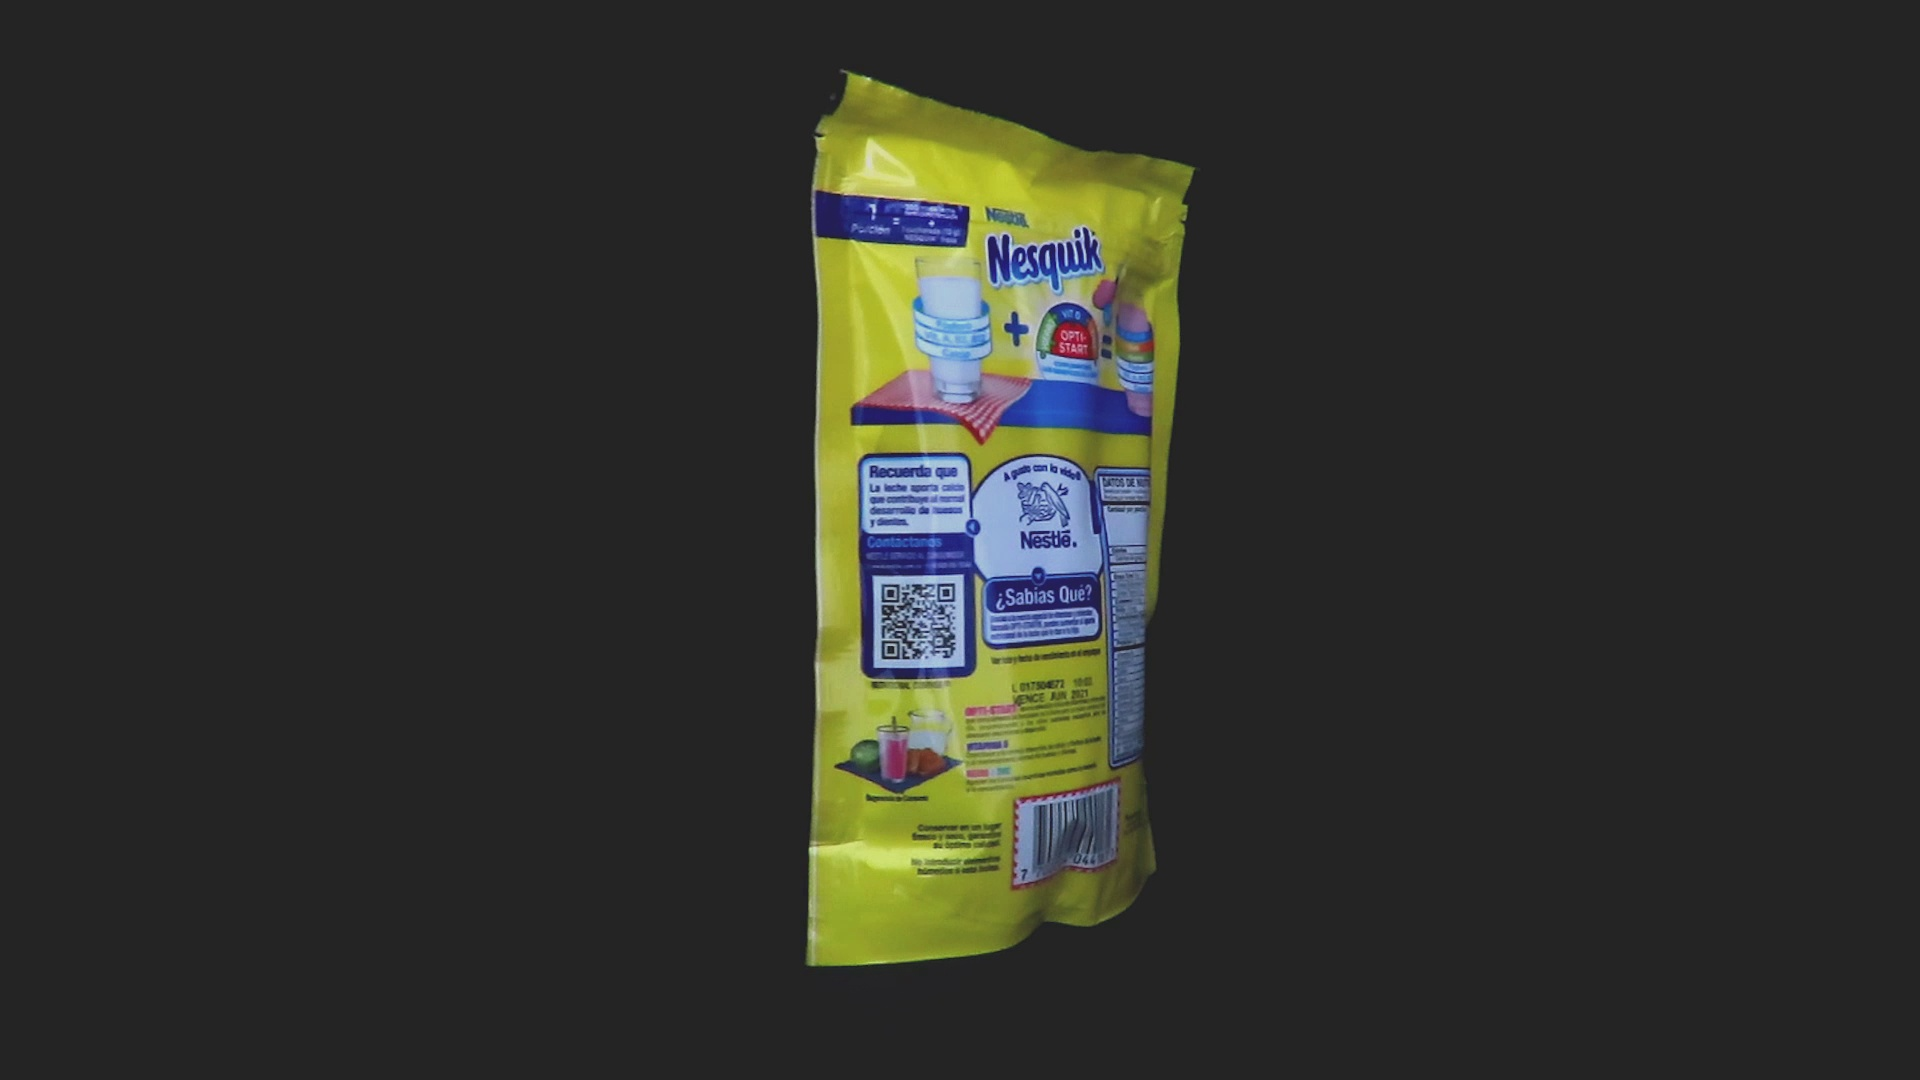COL0170305DYP20000: (800, 65, 1207, 973)
